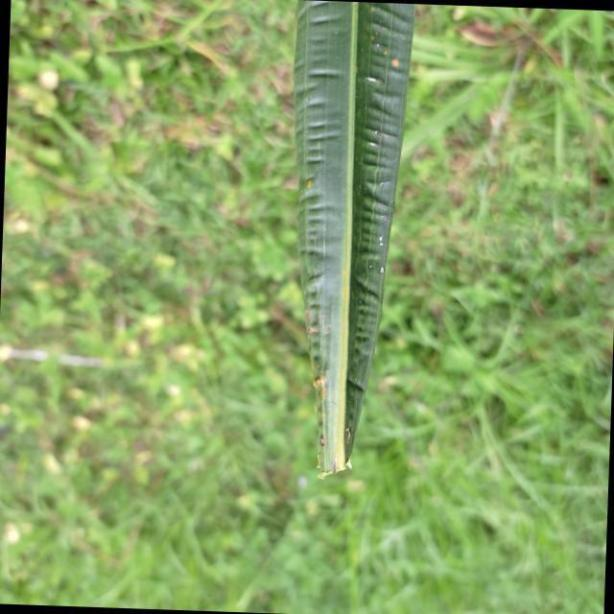Boron: (292, 0, 415, 484)
